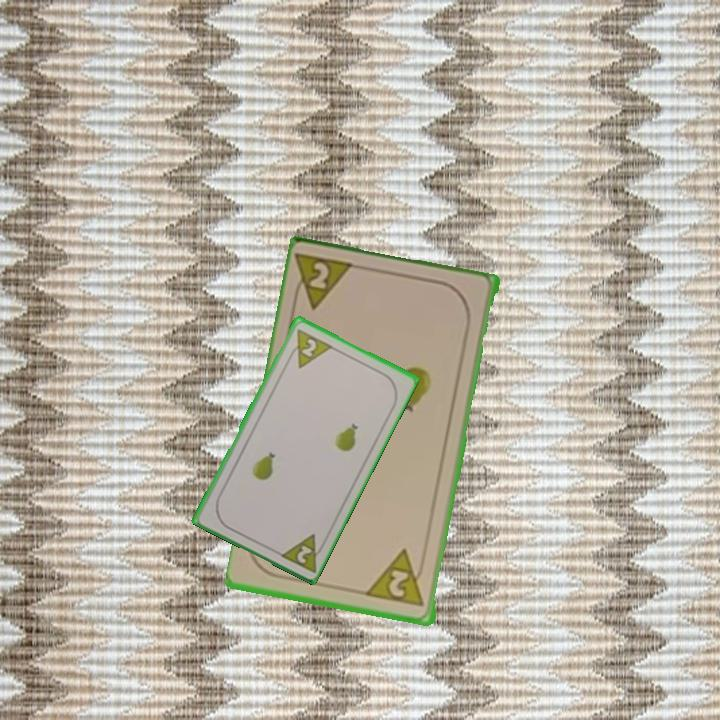2p: (289, 250, 360, 314), (365, 546, 428, 610), (275, 529, 328, 574), (283, 325, 334, 371)
